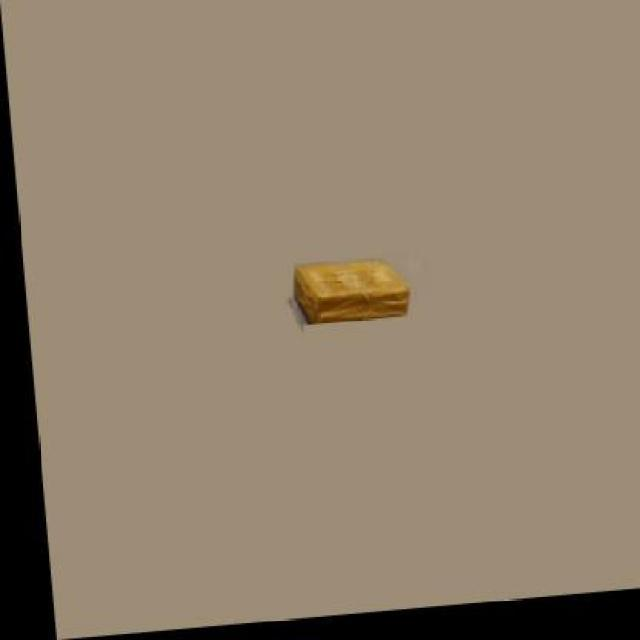box: (288, 263, 402, 326)
